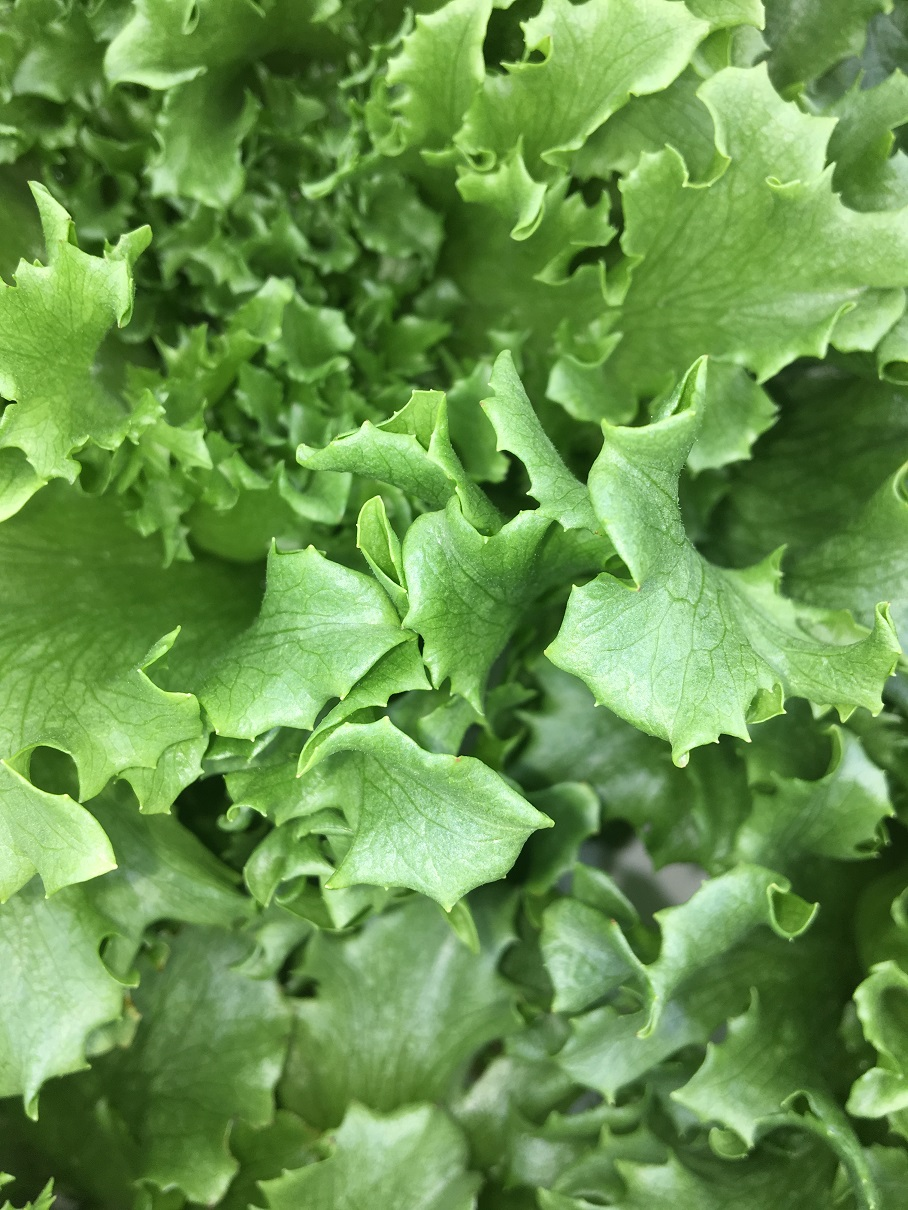tipburn: (615, 550, 668, 609), (432, 732, 483, 782), (596, 903, 643, 945), (315, 1122, 358, 1162), (104, 985, 147, 1024)
